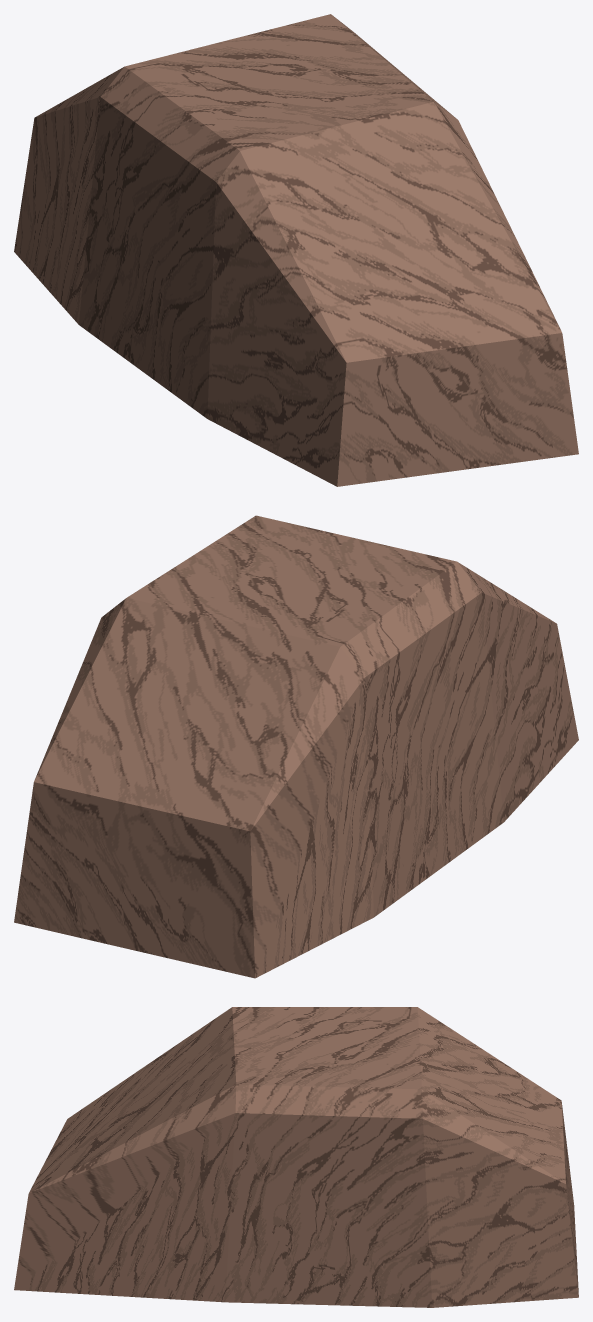
File: Earth_BlockI.fbx
3 views of the same model, one above another, from view 1: azimuth 30°, elevation 25°; view 2: azimuth 150°, elevation 25°; view 3: azimuth 270°, elevation 25° (orthographic). The views are drawn at different scales.
Parts seen in each view (by area): view 1: Earth_BlockI; view 2: Earth_BlockI; view 3: Earth_BlockI.
Part boxes in pixels (box(x1,y1,x2,y2)): Earth_BlockI: box(14, 14, 578, 486); Earth_BlockI: box(14, 515, 578, 978); Earth_BlockI: box(14, 1007, 578, 1307).
Size of the model in its own units: 739 by 621 by 1563.
